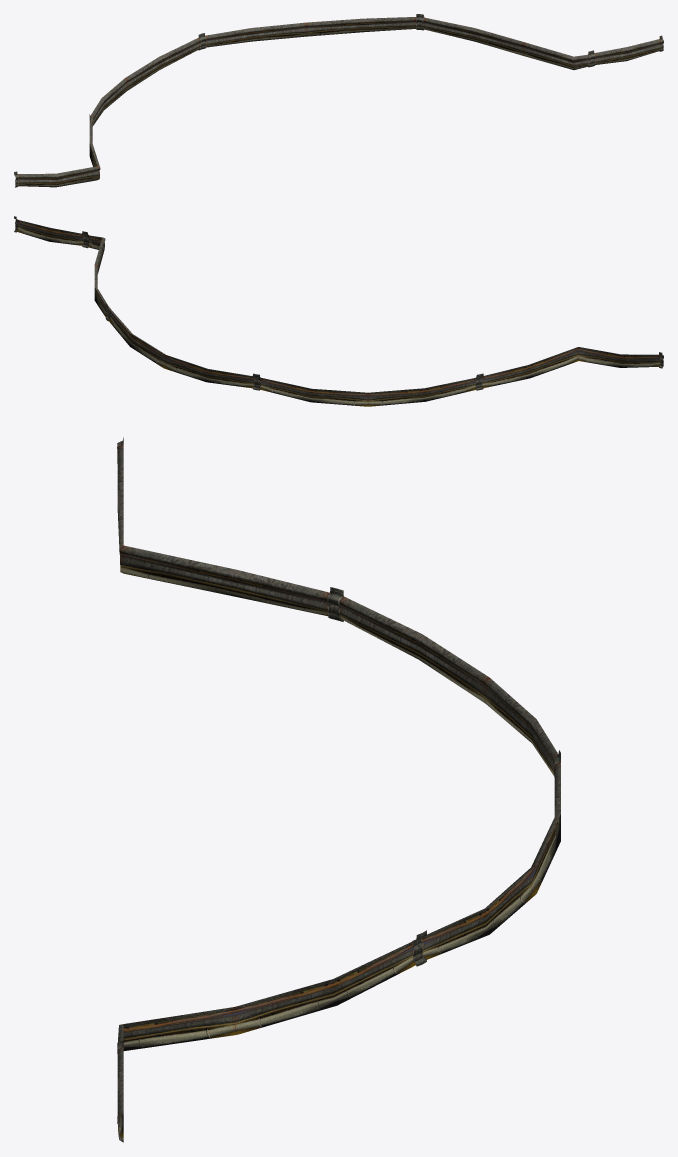
The model's file is M12_SidePipes_A.glb.
The picture shows the model from 3 angles, top to bottom: view 1: azimuth 30°, elevation 25°; view 2: azimuth 150°, elevation 25°; view 3: azimuth 270°, elevation 25°; orthographic projection. The views are drawn at different scales.
Parts seen in each view (by area): view 1: M12_SIDEPIPES_A; view 2: M12_SIDEPIPES_A; view 3: M12_SIDEPIPES_A.
Part boxes in pixels (left/top/right/bottom): M12_SIDEPIPES_A: left=14, top=14, right=663, bottom=187; M12_SIDEPIPES_A: left=14, top=216, right=663, bottom=406; M12_SIDEPIPES_A: left=117, top=437, right=560, bottom=1142.
Bounding box in the file's own units: 27.21 × 1.55 × 8.06.
1 material, 1 textured.
